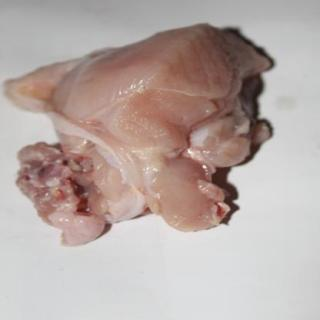Ayam: (1, 23, 273, 247)
